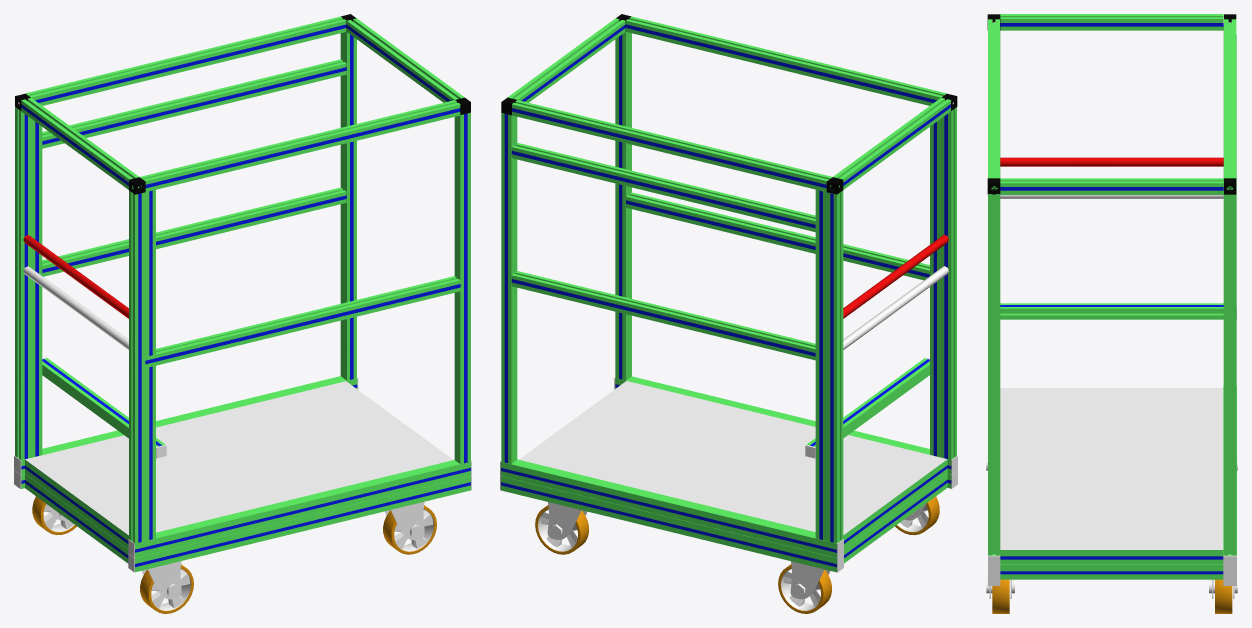
The model's file is RC12 Elektro 2.FBX.
3 views of the same model, side by side, from view 1: azimuth 30°, elevation 25°; view 2: azimuth 150°, elevation 25°; view 3: azimuth 270°, elevation 25° (orthographic). The views are drawn at different scales.
Parts seen in each view (by area): view 1: Trolly_6; view 2: Trolly_6; view 3: Trolly_6.
Part boxes in pixels (x1,y1,x2,y2): Trolly_6: (14, 14, 471, 613); Trolly_6: (500, 14, 957, 613); Trolly_6: (986, 14, 1237, 613).
Size of the model in its own units: 12.55 by 15.65 by 7.82.
